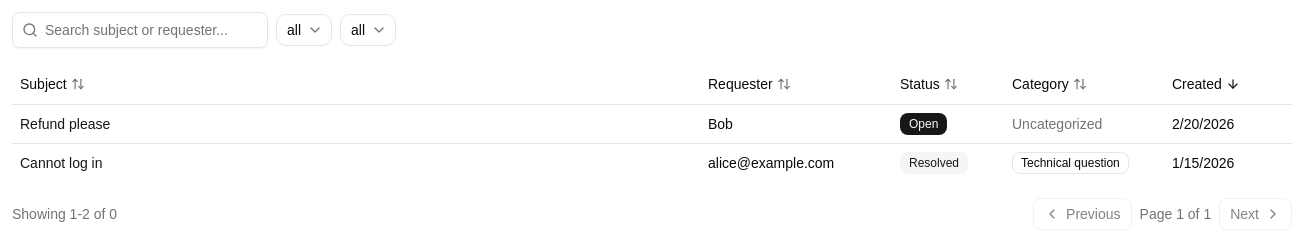
Test: TicketsTable › clears all filters when the clear filters button is clicked
The image size is (1304, 247).
Expected: the row "Refund please Bob Open Uncategorized 2/20/2026" is shown, [12,104,1292,143]
Step 1. Click the dropdown named "filter by status" → (304, 30), box [276,14,332,46]
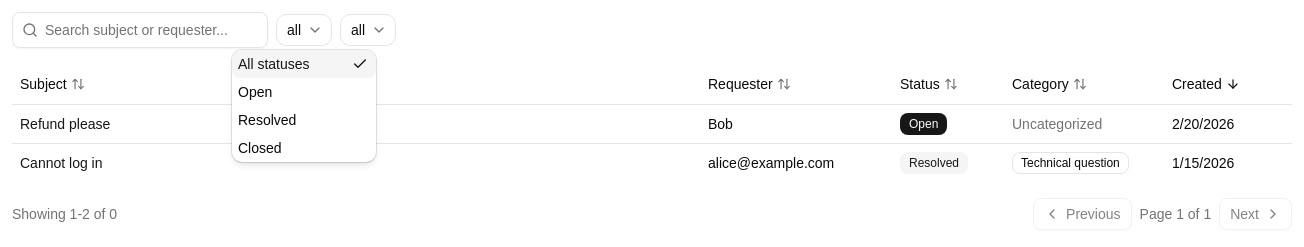
Step 2. Click the option "Open" → (255, 92), box [238,84,272,100]
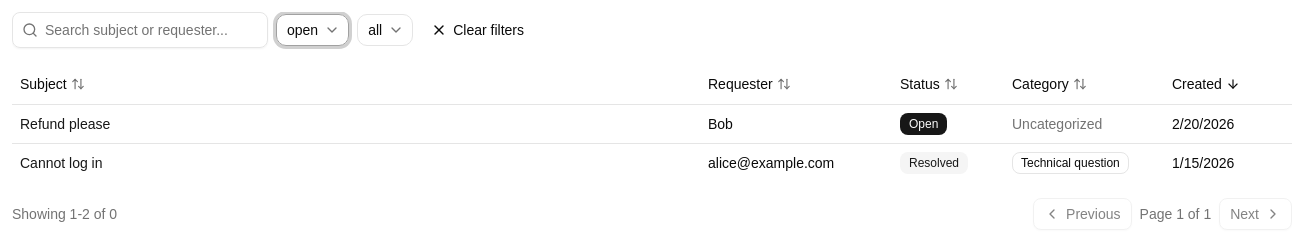
Step 3. Type "refund" into the field named "search tickets" → (140, 30), box [12,12,268,48]
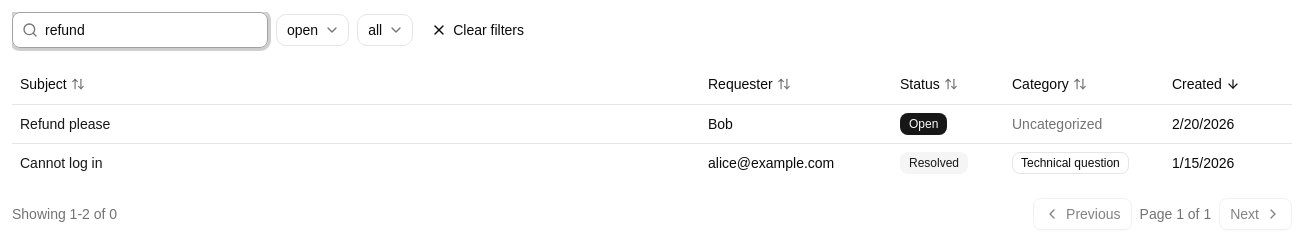
Step 4. Click the button "Clear filters" → (478, 30), box [421,14,534,46]
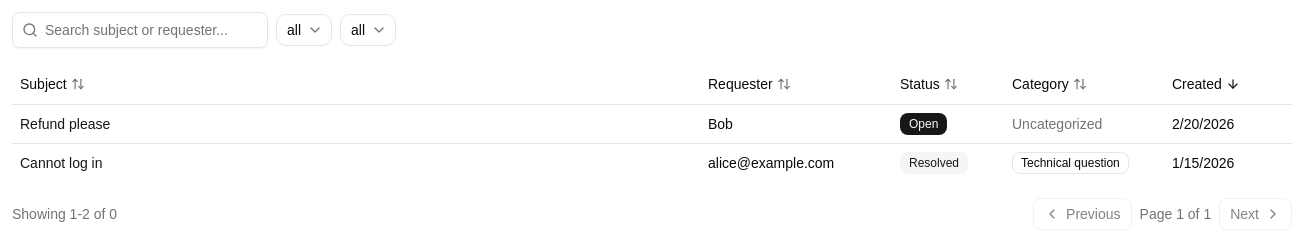
Now the field named "search tickets" is empty, box [12,12,268,48]
Now the button "Clear filters" is gone
